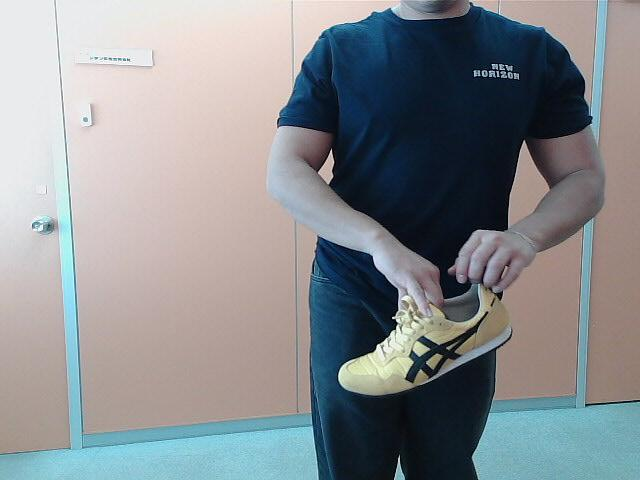Shoes: (335, 285, 511, 396)
